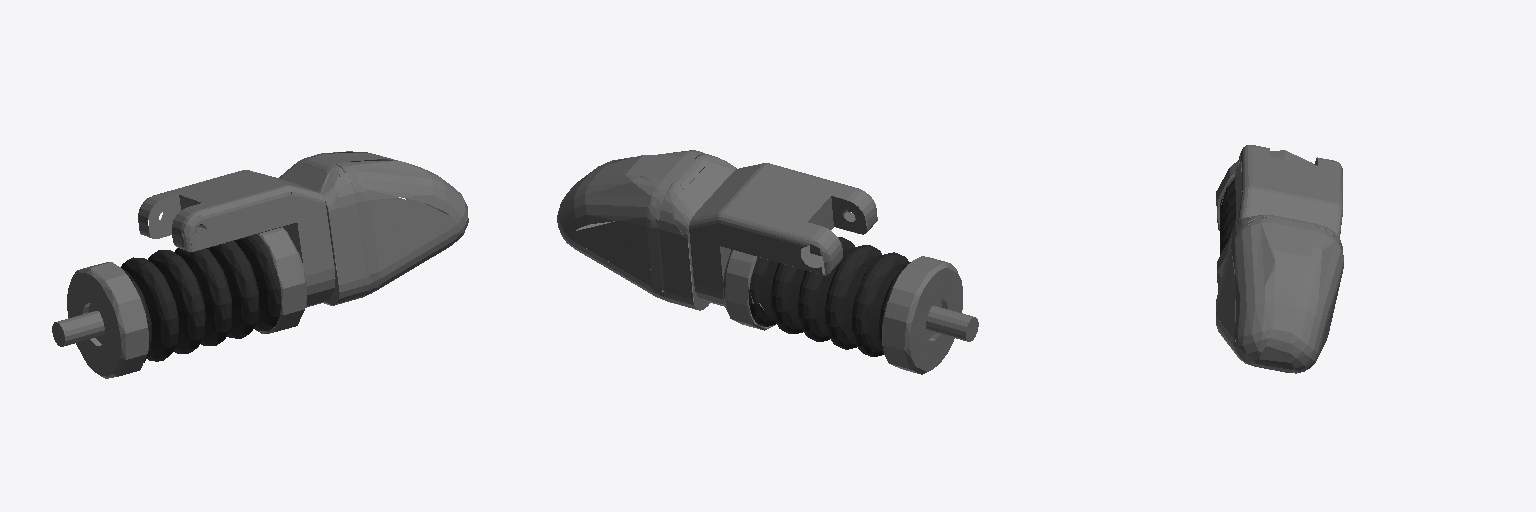
3 renders of one model, left to right at view 1: azimuth 30°, elevation 25°; view 2: azimuth 150°, elevation 25°; view 3: azimuth 270°, elevation 25°, orthographic.
Size of the model in its own units: 0.0539 by 0.0198 by 0.0149.
1 materials, 1 textured.